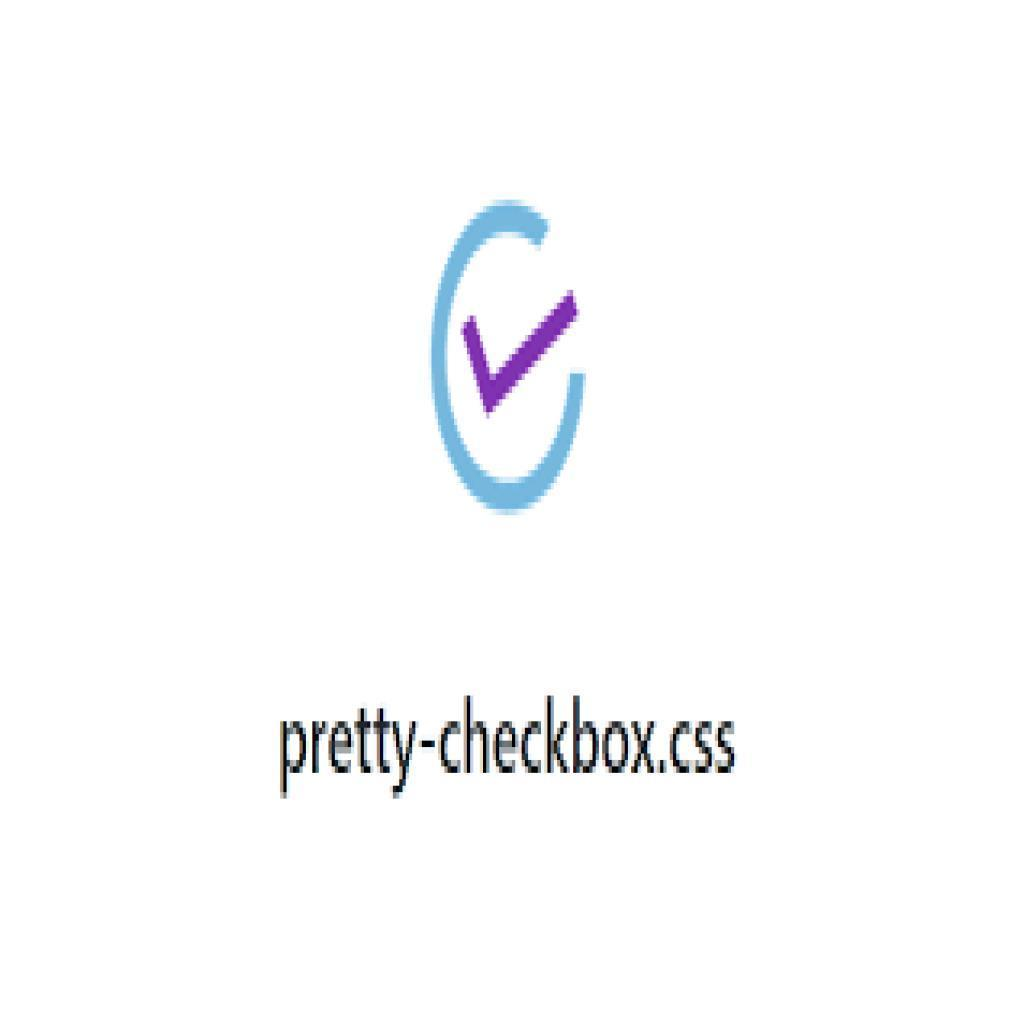checkbox: (423, 186, 593, 524)
